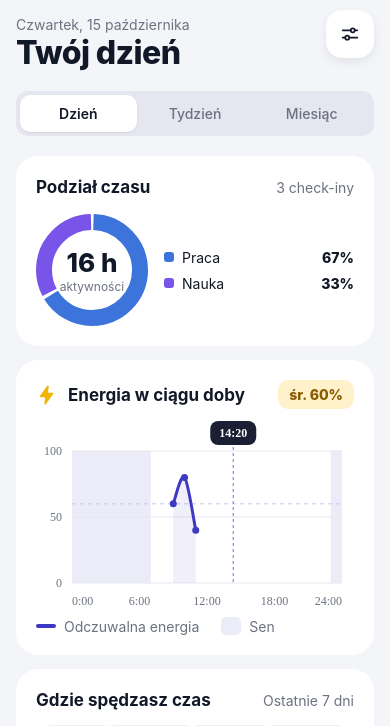
Test: DashboardScreen › computes shares from entries and switches range
The image size is (390, 726).
Expected: the text with test id "checkin-count" reads "3 check-iny", [276,178,354,196]
Expected: the text with test id "average-energy" reads "śr. 60%", [289,386,343,403]
Click the element with test id "tab-week" at coordinates (195, 114), box [169,105,221,122]
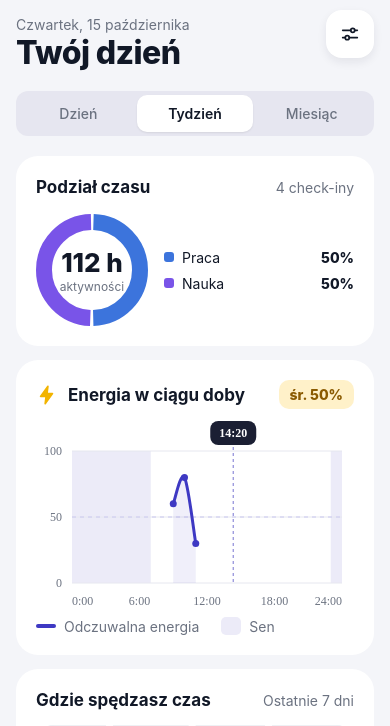
Result: the text with test id "checkin-count" reads "4 check-iny" at [276,178,354,196]
Result: the text "112 h" is shown at [61,246,123,278]
